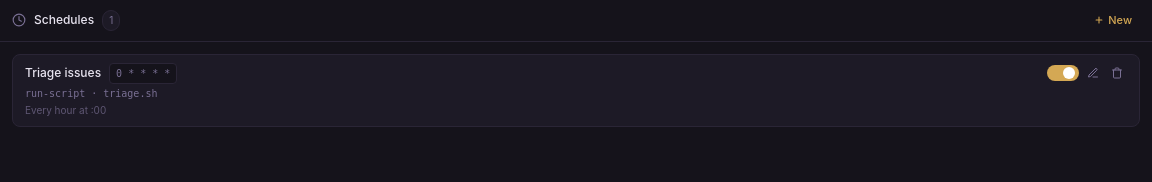
Test: SchedulerPanel › shows error banner when delete fails
What coordinates should you click on to do the following:
click the button with test id "schedule-delete-btn"
I would click on:
 (1117, 72)
Its box is [1107, 62, 1127, 82].
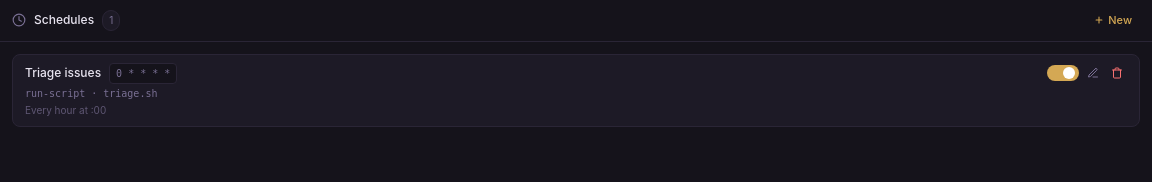
What coordinates should you click on to do the following:
click the button with test id "schedule-delete-btn"
I would click on:
 (1117, 72)
Its box is [1107, 62, 1127, 82].
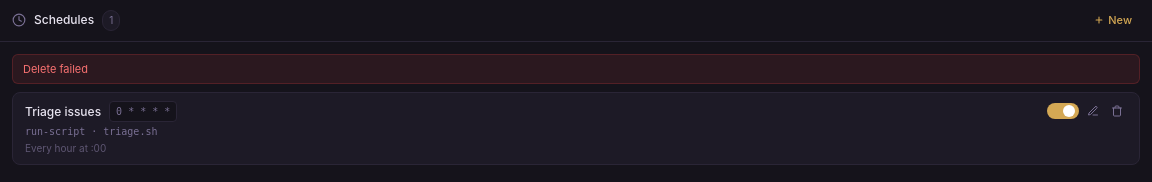
Expected: the text "Delete failed" is shown, [12, 54, 1140, 84]
